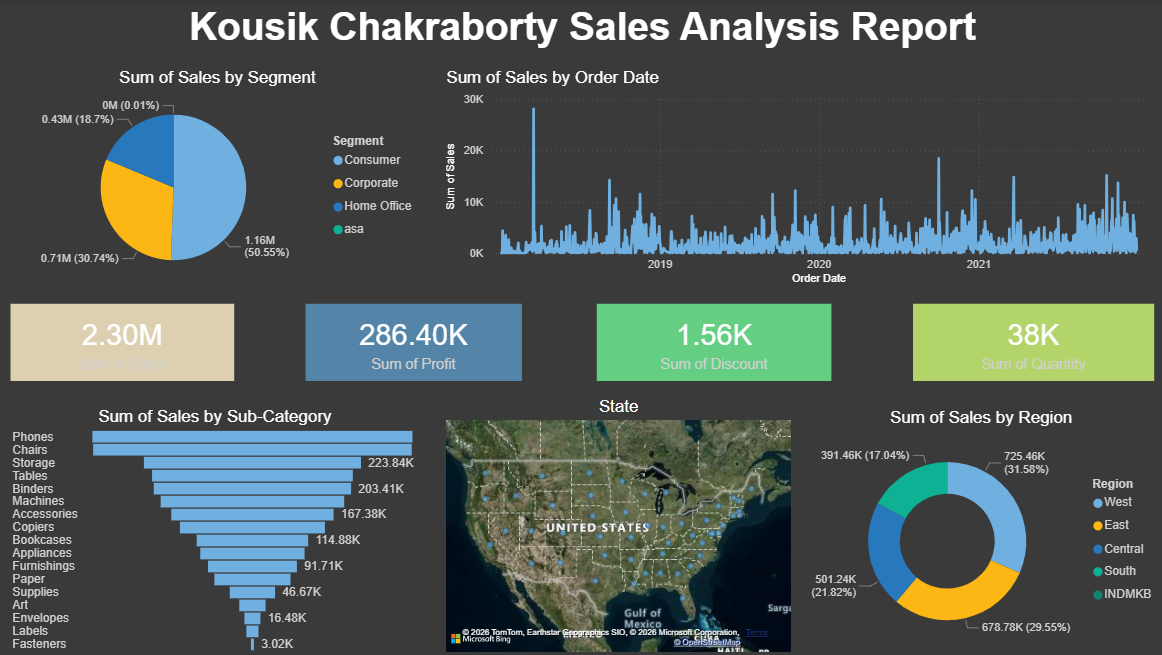

This screenshot's page, from the dashboard's own definition file:
{"tool":"powerbi","page":{"name":"Dashboard","canvas":[1280,720],"ordinal":0},"visuals":[{"type":"donutChart","fields":{"Category":["Orders.Region"],"Y":["Sum(Orders.Sales)"]},"box":[878.2,447.3,402.1,273.1],"z":0},{"type":"funnel","fields":{"Category":["Orders.Sub-Category"],"Y":["Sum(Orders.Sales)"]},"box":[11,446,454.2,274.4],"z":1},{"type":"map","fields":{"Category":["Orders.State"]},"box":[487.1,435,388.3,285.4],"z":2},{"type":"pieChart","fields":{"Category":["Orders.Segment"],"Y":["Sum(Orders.Sales)"]},"box":[13.7,74.1,454.2,242.9],"z":3},{"type":"lineChart","fields":{"Category":["Orders.Order Date"],"Y":["Sum(Orders.Sales)"]},"box":[487.1,74.1,782.2,242.9],"z":4},{"type":"card","fields":{"Values":["Sum(Orders.Sales)"]},"box":[0,333.4,237.4,85.1],"z":5},{"type":"card","fields":{"Values":["Sum(Orders.Discount)"]},"box":[639.5,333.4,258,85.1],"z":6},{"type":"card","fields":{"Values":["Sum(Orders.Profit)"]},"box":[323.8,333.4,237.4,85.1],"z":7},{"type":"card","fields":{"Values":["Sum(Orders.Quantity)"]},"box":[1001.7,333.4,252.5,85.1],"z":8},{"type":"textbox","box":[13.7,0,1255.6,60.4],"z":9}]}

Visuals, with their boxes in screenshot pixels (x1, y1, x2, y2), scaled from the page's 1280x720 canvas onto the 1162x655 screenshot:
donutChart - Orders.Region x Sum(Orders.Sales): l=797, t=407, r=1161, b=654
funnel - Orders.Sub-Category x Sum(Orders.Sales): l=10, t=406, r=422, b=654
map - Orders.State: l=442, t=396, r=795, b=654
pieChart - Orders.Segment x Sum(Orders.Sales): l=12, t=67, r=425, b=288
lineChart - Orders.Order Date x Sum(Orders.Sales): l=442, t=67, r=1152, b=288
card - Sum(Orders.Sales): l=0, t=303, r=216, b=381
card - Sum(Orders.Discount): l=581, t=303, r=815, b=381
card - Sum(Orders.Profit): l=294, t=303, r=509, b=381
card - Sum(Orders.Quantity): l=909, t=303, r=1139, b=381
textbox: l=12, t=0, r=1152, b=55
